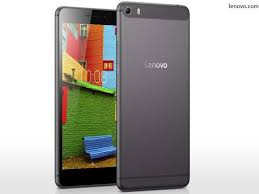lenovo: (114, 1, 190, 194), (53, 6, 120, 191)
